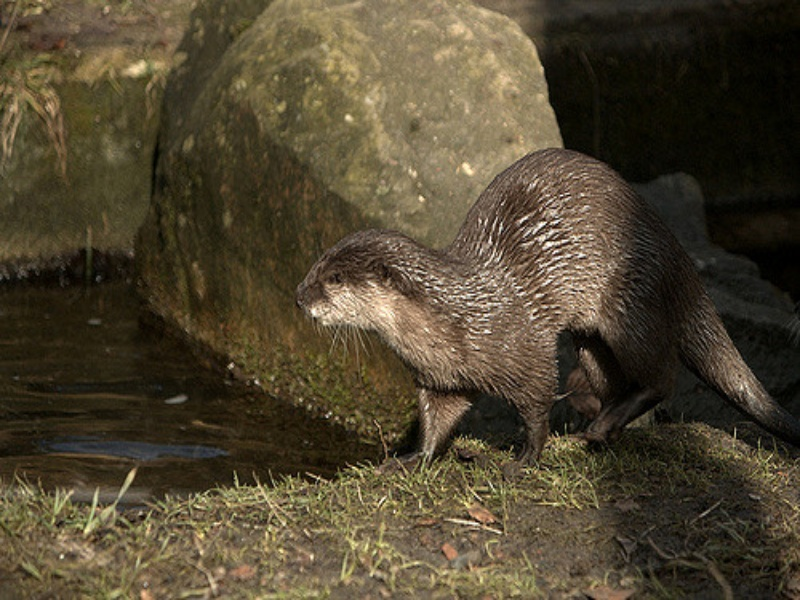minkish: (288, 144, 797, 457)
